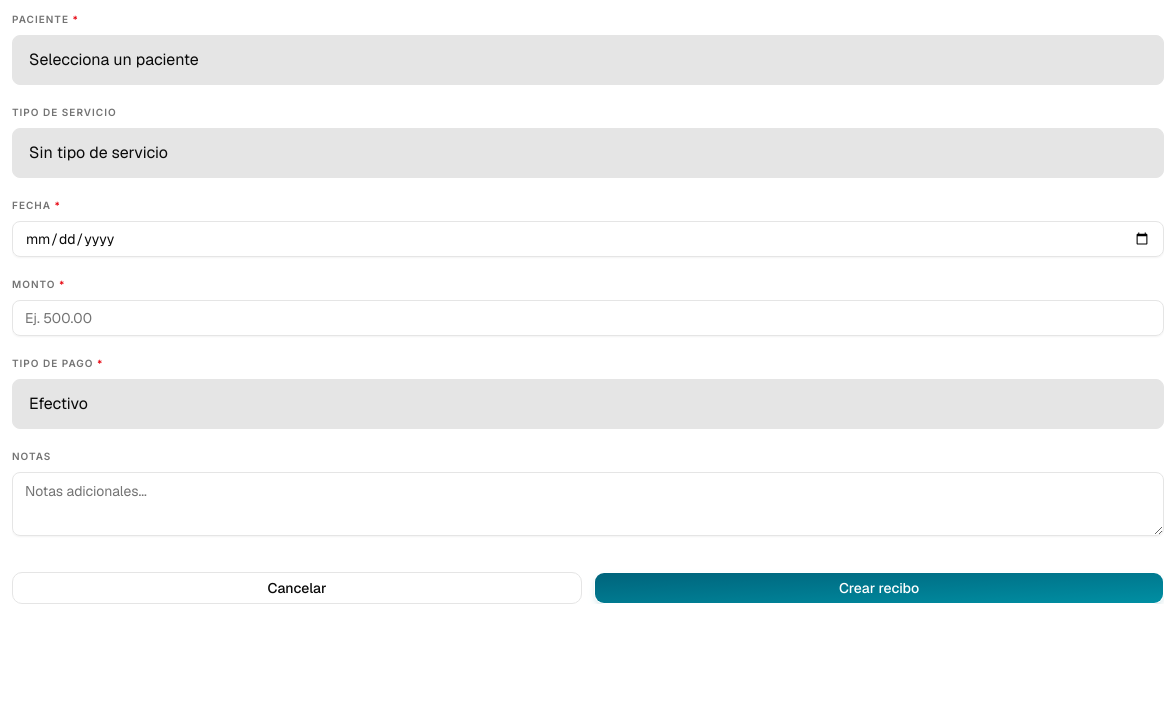
Test: ReceiptForm › shows error when submitting BENEFIT without planId
Select BENEFIT payment type
Select "Beneficio" in the dropdown labelled "Tipo de pago *" at point(588, 404), box [12, 379, 1164, 429]
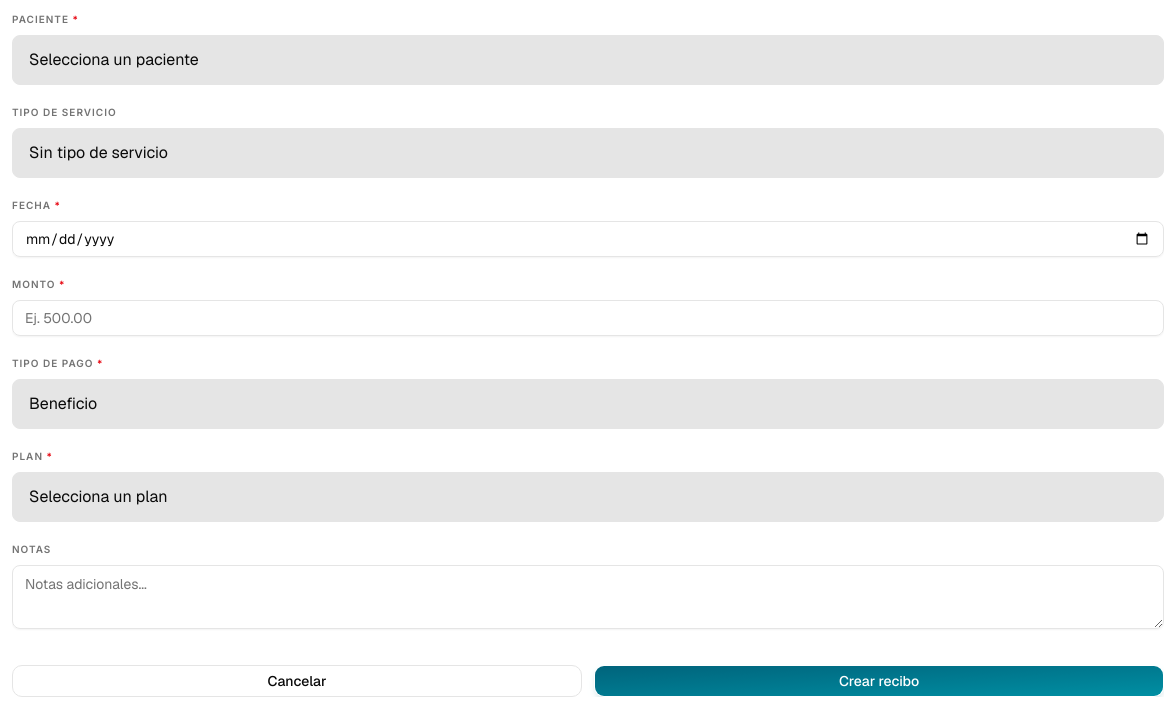
Fill in required fields
Type "500.00" into the field labelled "Monto *".
click(588, 318); type("500.00")  # box [12, 300, 1164, 336]
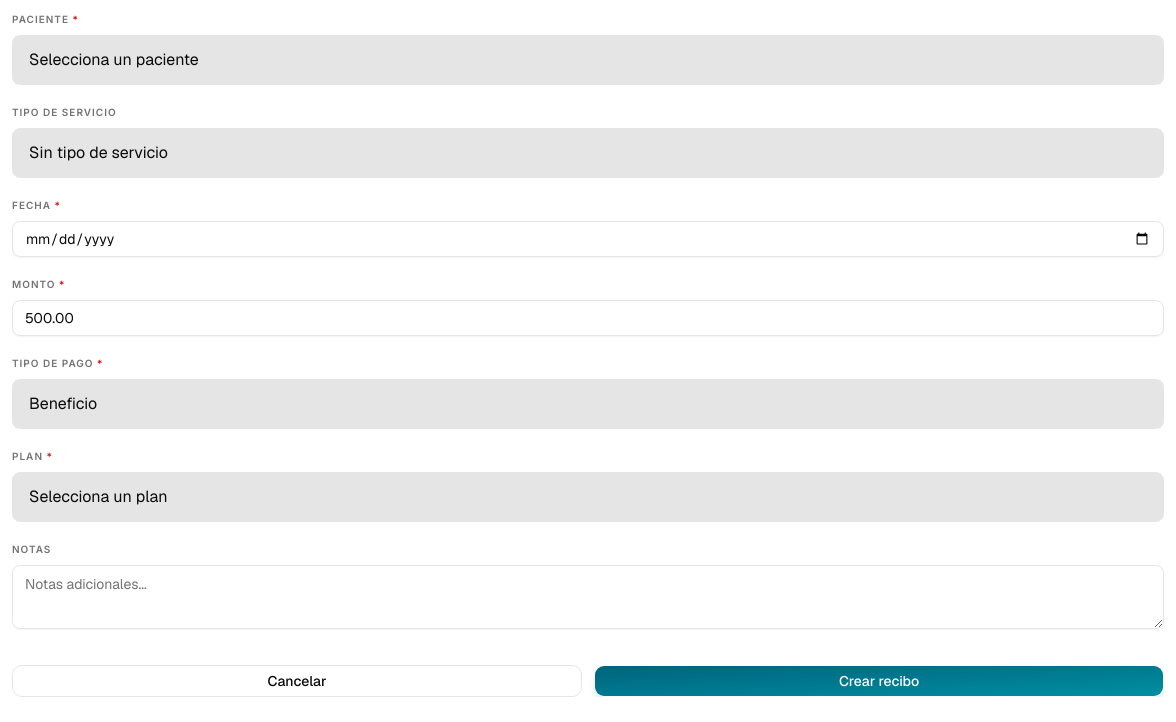
Type "2026-03-22" into the date field labelled "Fecha *".
click(588, 239); type("2026-03-22")  # box [12, 221, 1164, 257]
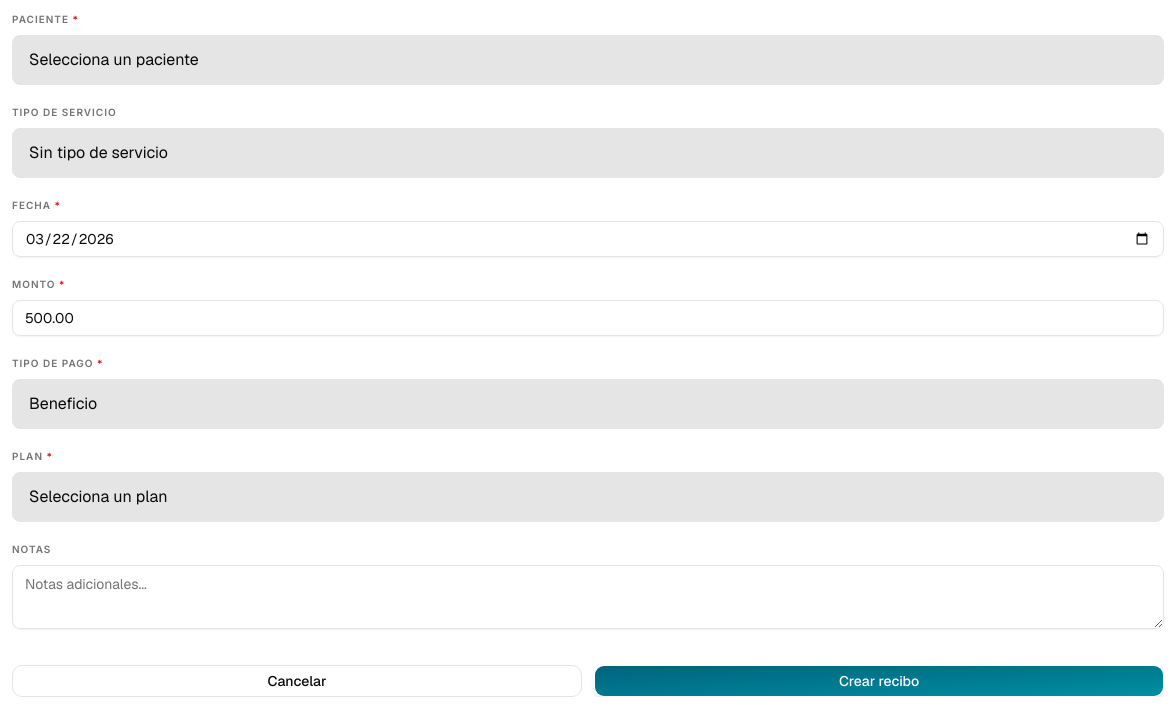
Select a patient
Select "Juan Pérez" in the dropdown labelled "Paciente *" at point(588, 60), box [12, 35, 1164, 85]
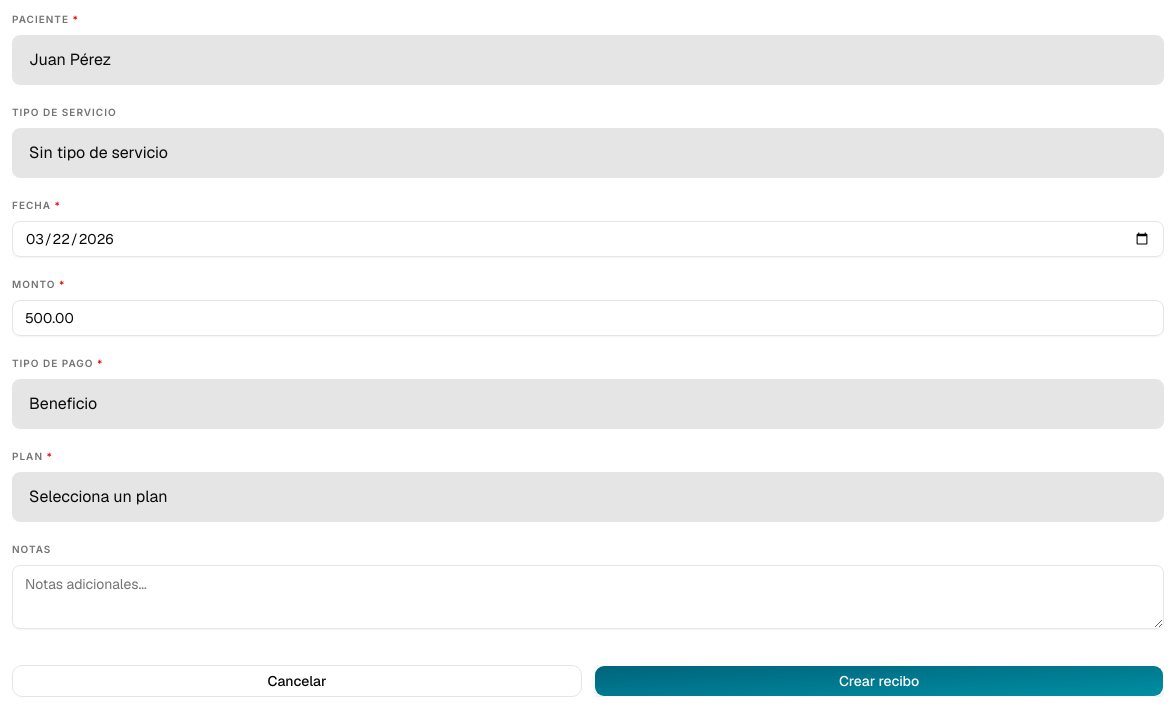
Click the button "Crear recibo".
click(879, 681)  # box [594, 665, 1164, 697]
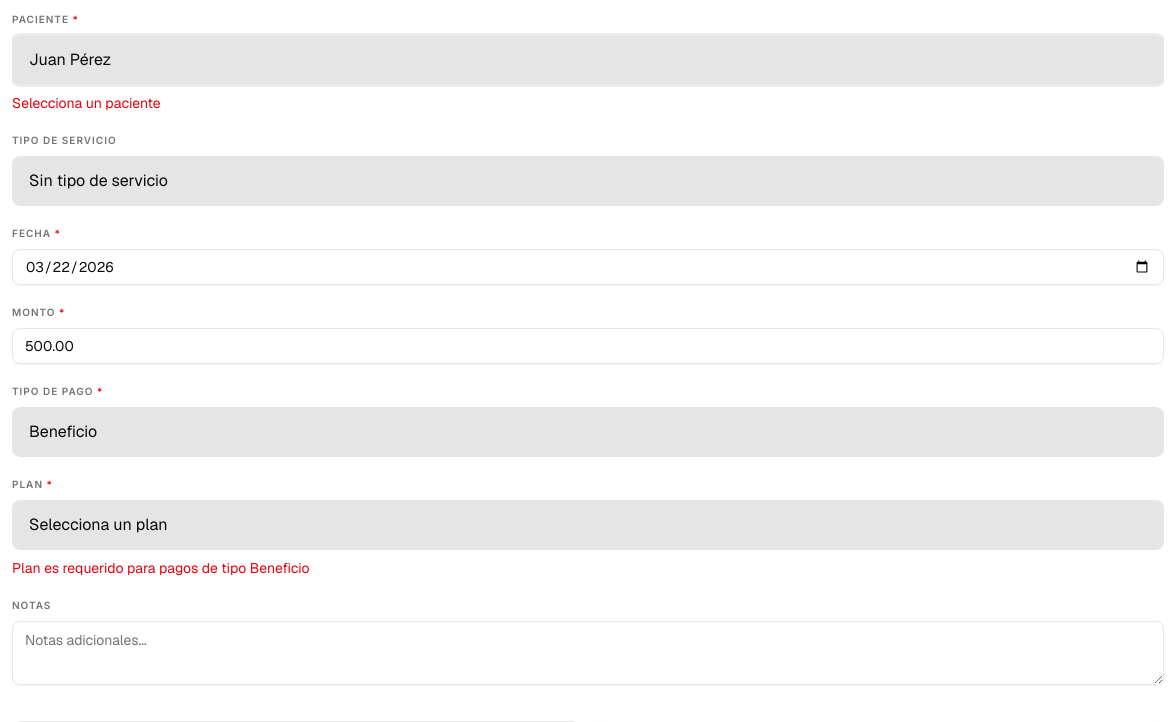
Expected: the text "Plan es requerido para pagos de tipo Beneficio" is shown, [12, 559, 310, 577]
